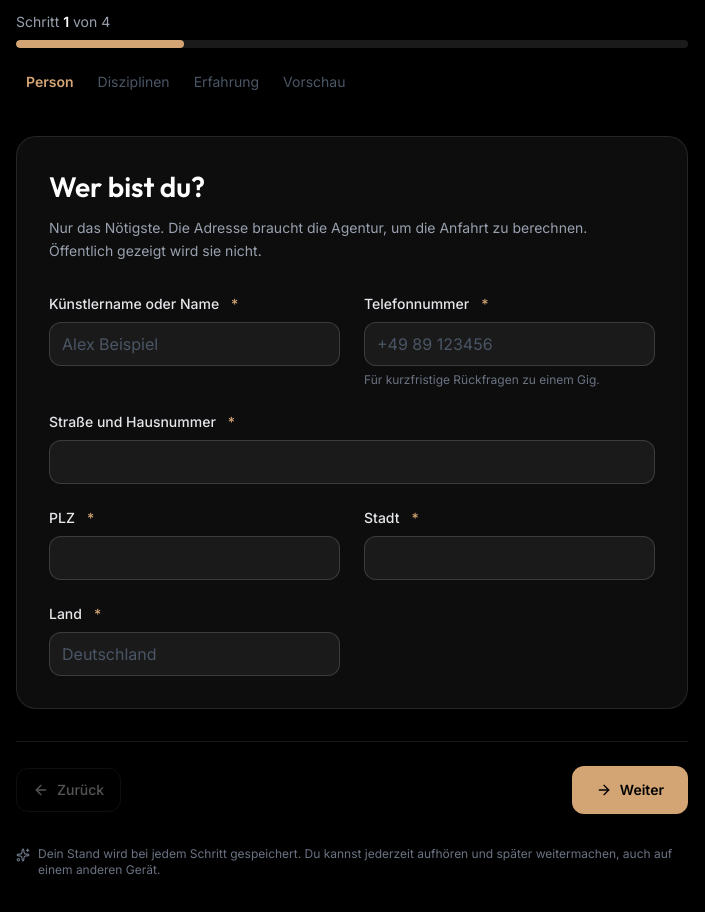
Test: ProfileWizard › geht ohne Pflichtangabe nicht weiter und nennt die fehlenden Felder
Click the button "Weiter": [630, 790] box [572, 766, 688, 814]
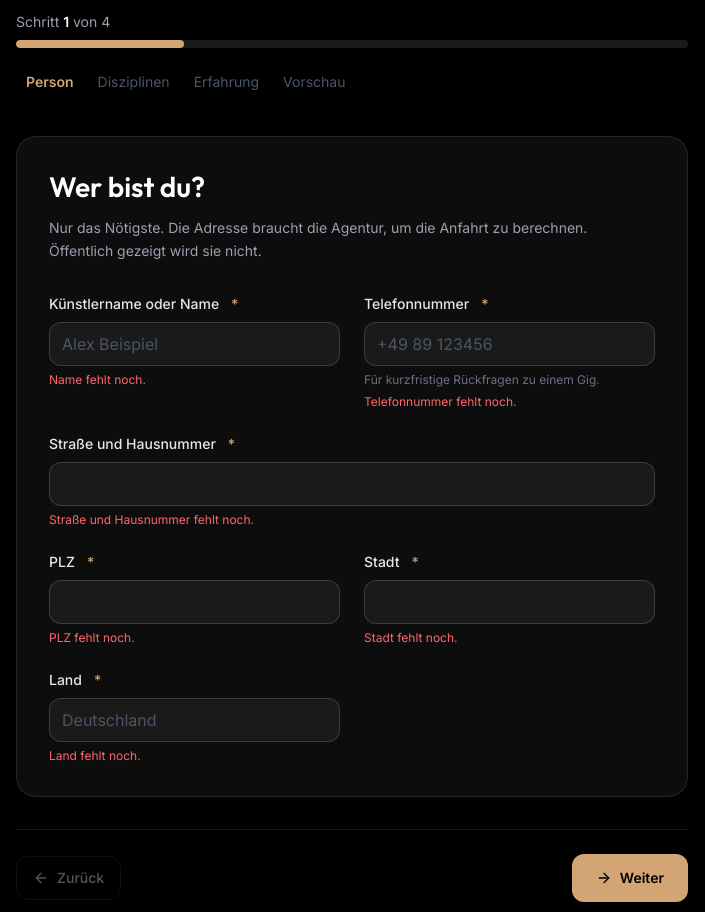
Expected: the heading reads "Wer bist du?", [49, 169, 205, 204]
Now the text "Telefonnummer fehlt noch." is shown, box [364, 394, 516, 409]
Now the text "PLZ fehlt noch." is shown, box [49, 630, 135, 645]
